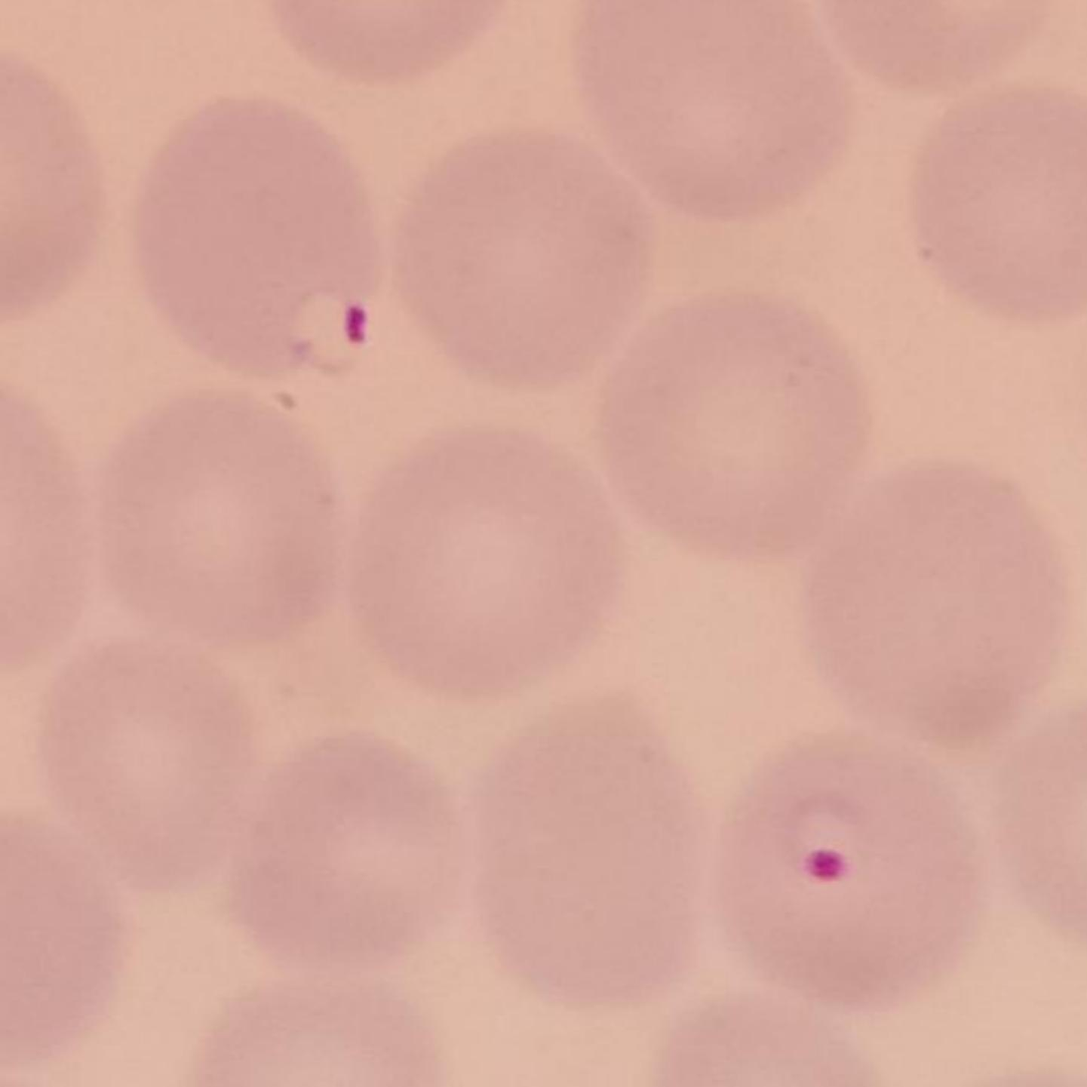Infected: (709, 738, 984, 1003), (136, 89, 381, 386)
Uninfected: (344, 426, 622, 694), (800, 463, 1061, 736), (395, 129, 662, 388), (609, 293, 865, 557), (478, 702, 699, 998), (573, 0, 858, 218), (96, 403, 342, 648), (231, 740, 471, 966), (43, 645, 253, 879)
